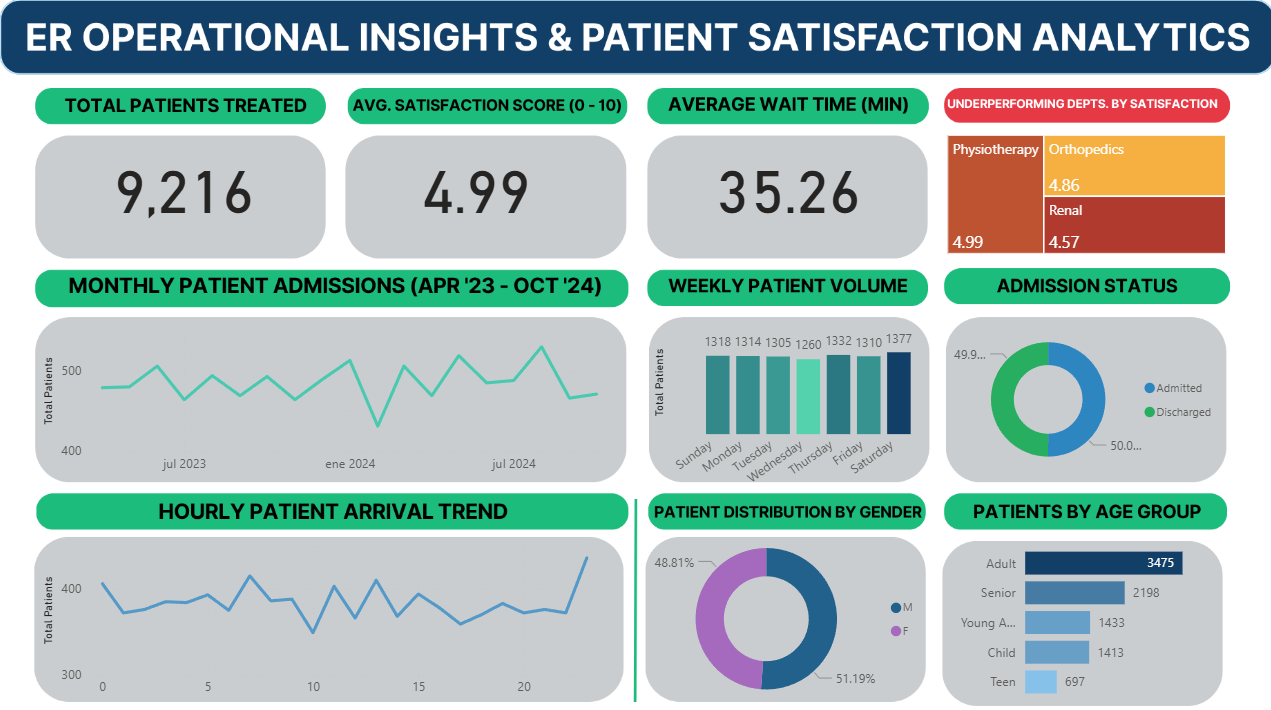

The page's visual inventory and layout, read from the dashboard file:
{"tool":"powerbi","page":{"name":"Página 1","canvas":[1280,720],"ordinal":0},"visuals":[{"type":"treemap","fields":{"Group":["dataset.Department Referral"],"Values":["Avg(dataset.Patient Satisfaction Score)"]},"box":[934.3,141.4,278.6,124.3],"z":0},{"type":"donutChart","fields":{"Category":["dataset.Patient Gender"],"Y":["CountNonNull(dataset.Patient Waittime)"]},"box":[640,510,280,205],"z":1000},{"type":"clusteredBarChart","fields":{"Category":["dataset.Age Range"],"Y":["CountNonNull(dataset.Patient Waittime)"]},"box":[933.8,523.6,269,178.6],"z":2000},{"type":"donutChart","fields":{"Category":["dataset.Patient Admission Flag"],"Y":["CountNonNull(dataset.Patient Waittime)"]},"box":[938.8,315,268.8,172.5],"z":3000},{"type":"clusteredColumnChart","fields":{"Y":["CountNonNull(dataset.Patient Waittime)"],"Category":["dataset.Day of Week 2"]},"box":[650.3,320.9,270.2,173.7],"z":4000},{"type":"lineChart","fields":{"Y":["CountNonNull(dataset.Patient Waittime)"],"Category":["dataset.Patient Admission Date.Variación.Jerarquía de fechas.Año","dataset.Patient Admission Date.Variación.Jerarquía de fechas.Trimestre","dataset.Patient Admission Date.Variación.Jerarquía de fechas.Mes"]},"box":[60,321.4,565.7,160],"z":5000},{"type":"lineChart","fields":{"Category":["dataset.Admission Time Only"],"Y":["CountNonNull(dataset.Patient Waittime)"]},"box":[60,528.6,565.7,168.6],"z":6000},{"type":"card","fields":{"Values":["CountNonNull(dataset.Patient Waittime)"]},"box":[60,131.4,282.9,124.3],"z":7000},{"type":"card","fields":{"Values":["Avg(dataset.Patient Waittime)"]},"box":[644.3,131.4,282.9,124.3],"z":8000},{"type":"card","fields":{"Values":["Avg(dataset.Patient Satisfaction Score)"]},"box":[342.9,131.4,282.9,124.3],"z":9000}]}

Visuals, with their boxes in screenshot pixels (x1, y1, x2, y2), scaled from the page's 1280x720 canvas onto the 1271x710 screenshot:
treemap - dataset.Department Referral x Avg(dataset.Patient Satisfaction Score): <bbox>928, 139, 1204, 262</bbox>
donutChart - dataset.Patient Gender x CountNonNull(dataset.Patient Waittime): <bbox>636, 503, 914, 705</bbox>
clusteredBarChart - dataset.Age Range x CountNonNull(dataset.Patient Waittime): <bbox>927, 516, 1194, 692</bbox>
donutChart - dataset.Patient Admission Flag x CountNonNull(dataset.Patient Waittime): <bbox>932, 311, 1199, 481</bbox>
clusteredColumnChart - CountNonNull(dataset.Patient Waittime) x dataset.Day of Week 2: <bbox>646, 316, 914, 488</bbox>
lineChart - CountNonNull(dataset.Patient Waittime) x dataset.Patient Admission Date.Variación.Jerarquía de fechas.Año: <bbox>60, 317, 621, 475</bbox>
lineChart - dataset.Admission Time Only x CountNonNull(dataset.Patient Waittime): <bbox>60, 521, 621, 688</bbox>
card - CountNonNull(dataset.Patient Waittime): <bbox>60, 130, 340, 252</bbox>
card - Avg(dataset.Patient Waittime): <bbox>640, 130, 921, 252</bbox>
card - Avg(dataset.Patient Satisfaction Score): <bbox>340, 130, 621, 252</bbox>
